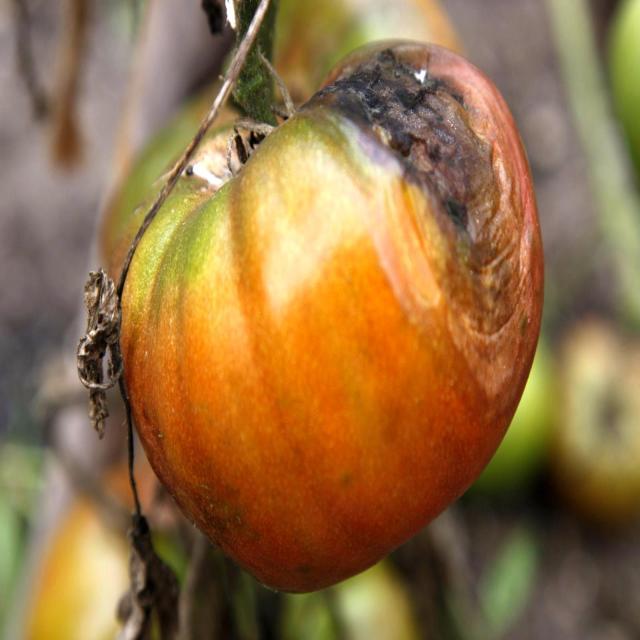Rotten_Tomato: (110, 40, 544, 598)
